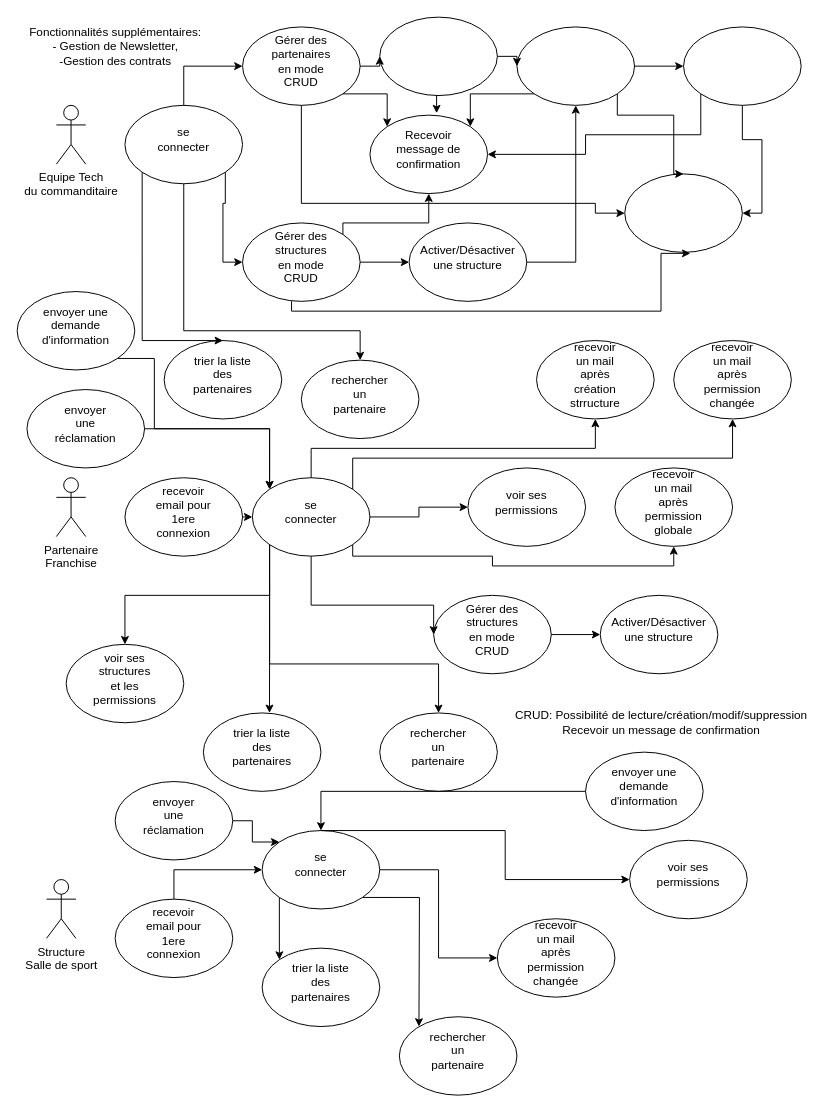
The diagram is 835 pixels wide and 1112 high, and some of its shapes have lost their labels. The centre of each missing label's shape, as x and y in pixels:
Activer/Désactiver un partenaire: (x=438, y=56)
Activer/Désactiver une permission: (x=742, y=65)
Créer des permissions si actif: (x=575, y=65)
Envoyer un mail après création/modif: (x=683, y=212)
